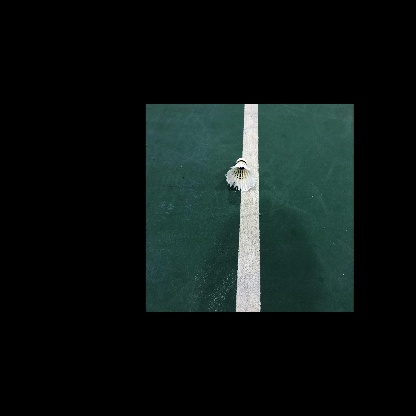ball_single: (226, 158, 255, 191)
